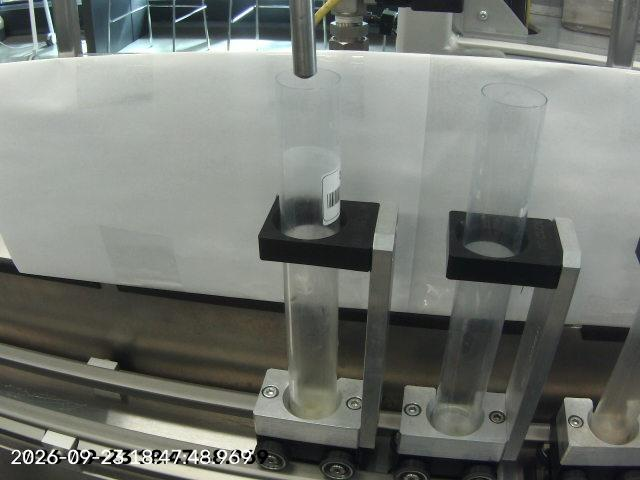vial: (425, 67, 549, 435), (261, 56, 368, 418)
